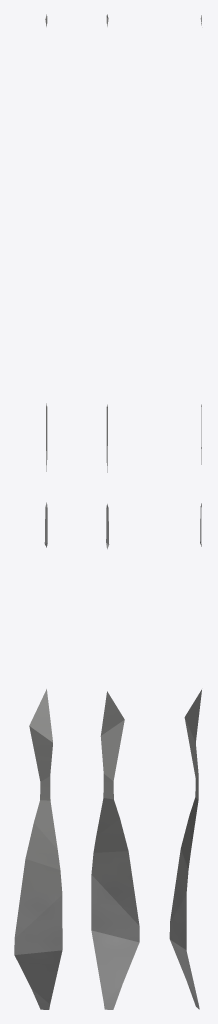
3 views of the same model, side by side, from view 1: azimuth 30°, elevation 25°; view 2: azimuth 210°, elevation 25°; view 3: azimuth 330°, elevation 25° (orthographic).
Bounding box in the file's own units: 0.0129 × 0.3784 × 0.0108.
1 material, 1 textured.
